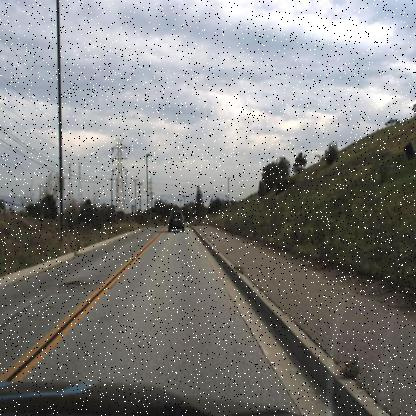car: (167, 207, 186, 233)
